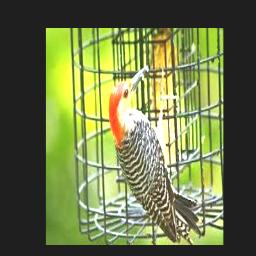Woodpecker: (108, 64, 199, 243)
